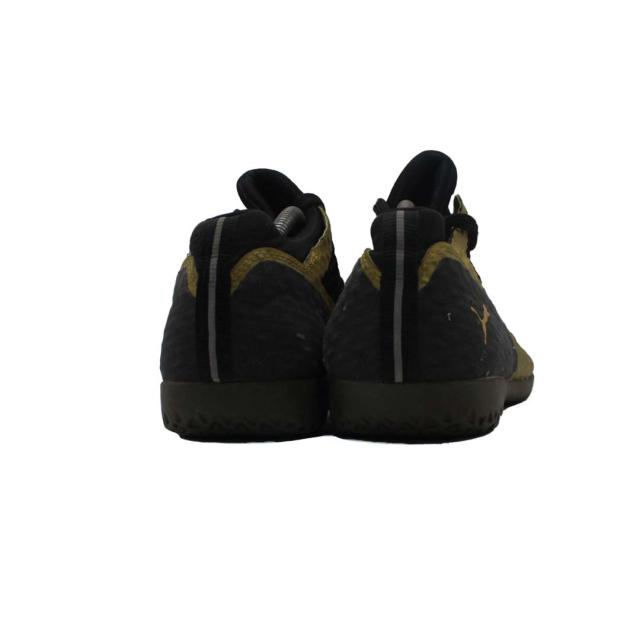heel: (352, 177, 500, 380), (166, 200, 321, 380)
midsole: (154, 376, 526, 446)
